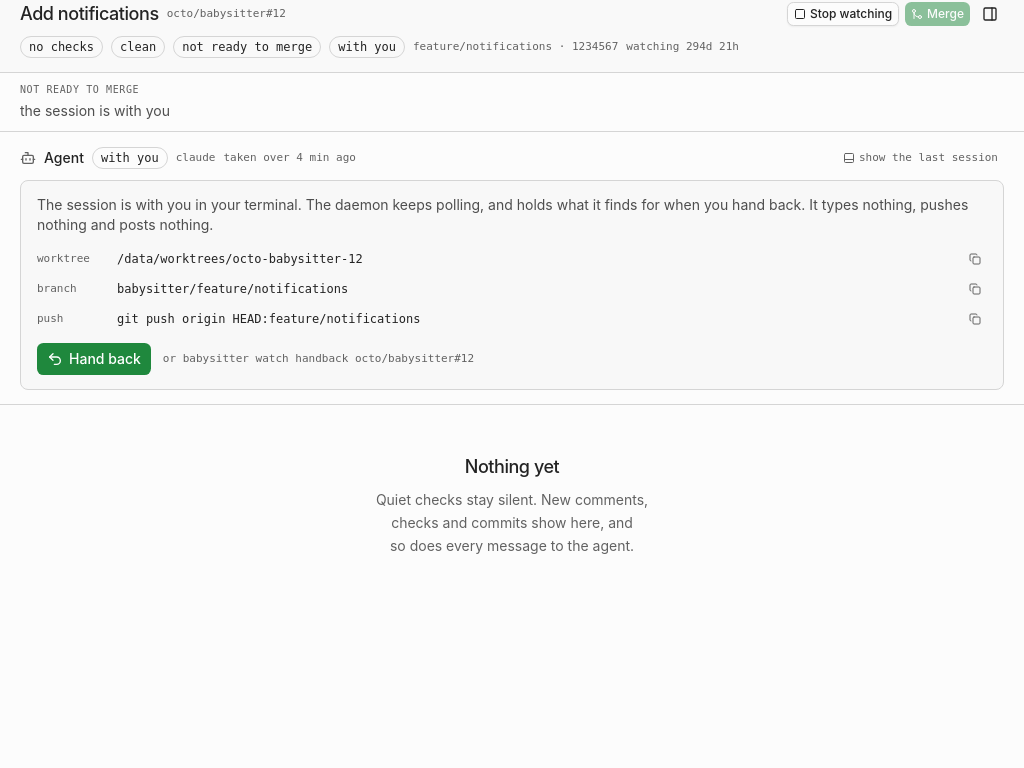
asks before it hands back work that is not pushed
Click the button "Hand back": (94, 359) x1=37 y1=343 x2=151 y2=375
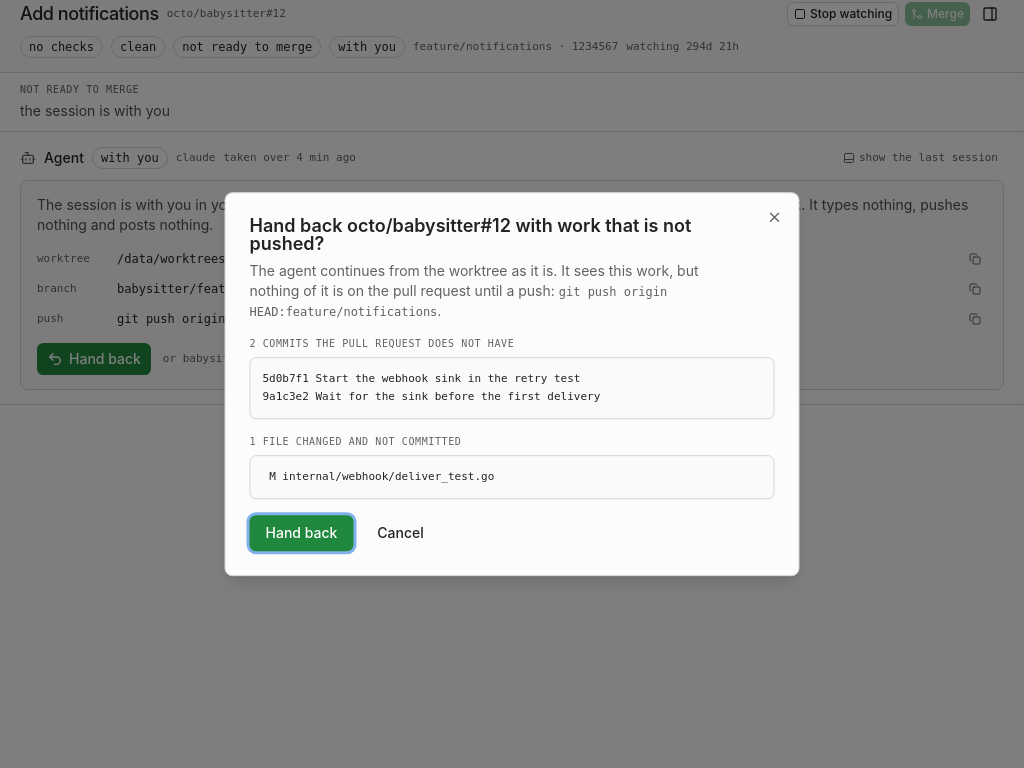
Result: the text "2 commits the pull request does not have" is shown at x1=250 y1=338 x2=514 y2=349
Result: the text "5d0b7f1 Start the webhook sink in the retry test" is shown at x1=262 y1=372 x2=600 y2=403
Result: the text "1 file changed and not committed" is shown at x1=250 y1=436 x2=461 y2=447
Click the button "Hand back": (301, 533) x1=250 y1=515 x2=353 y2=551
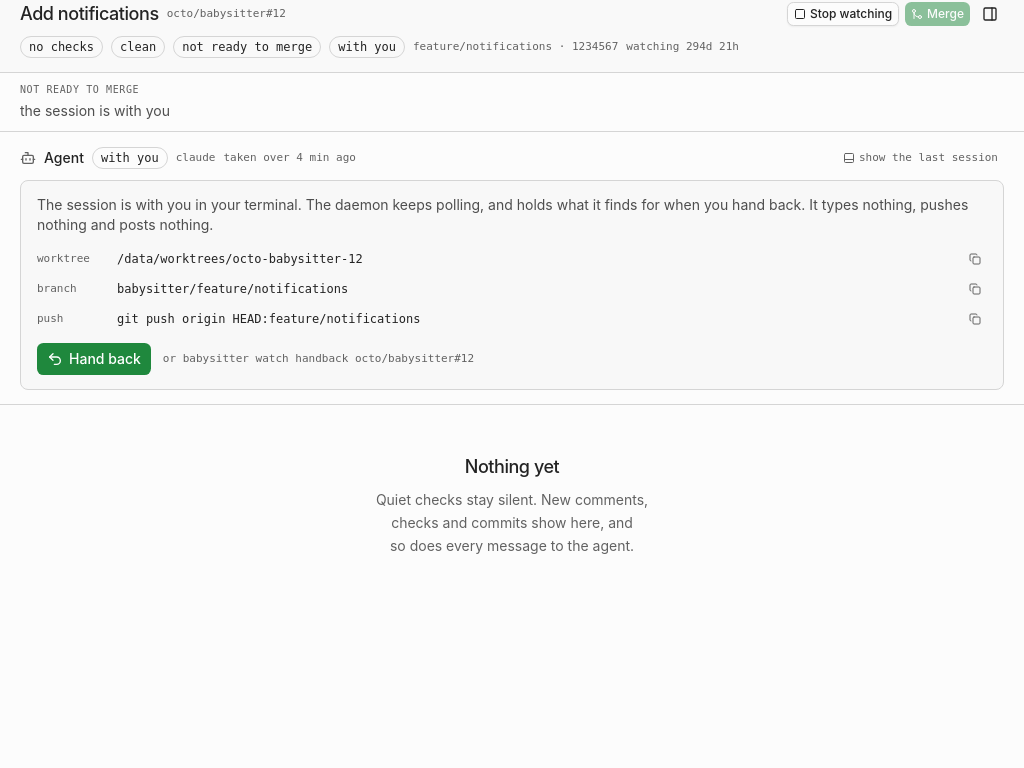
Result: the dialog is gone
